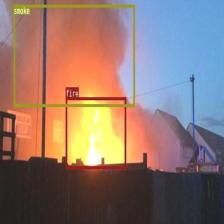fire: (66, 96, 125, 168)
smoke: (13, 5, 135, 106)
